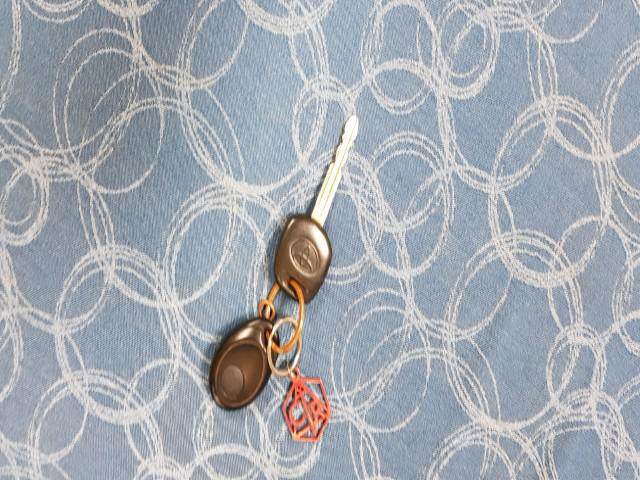key: (272, 114, 359, 303)
